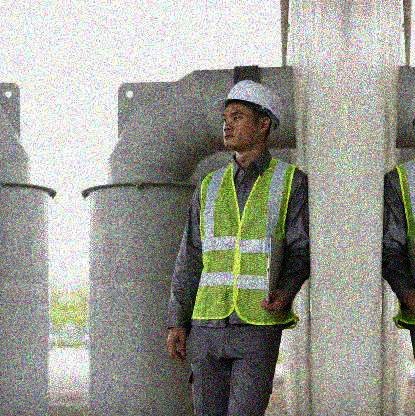helmet: (213, 79, 283, 156)
